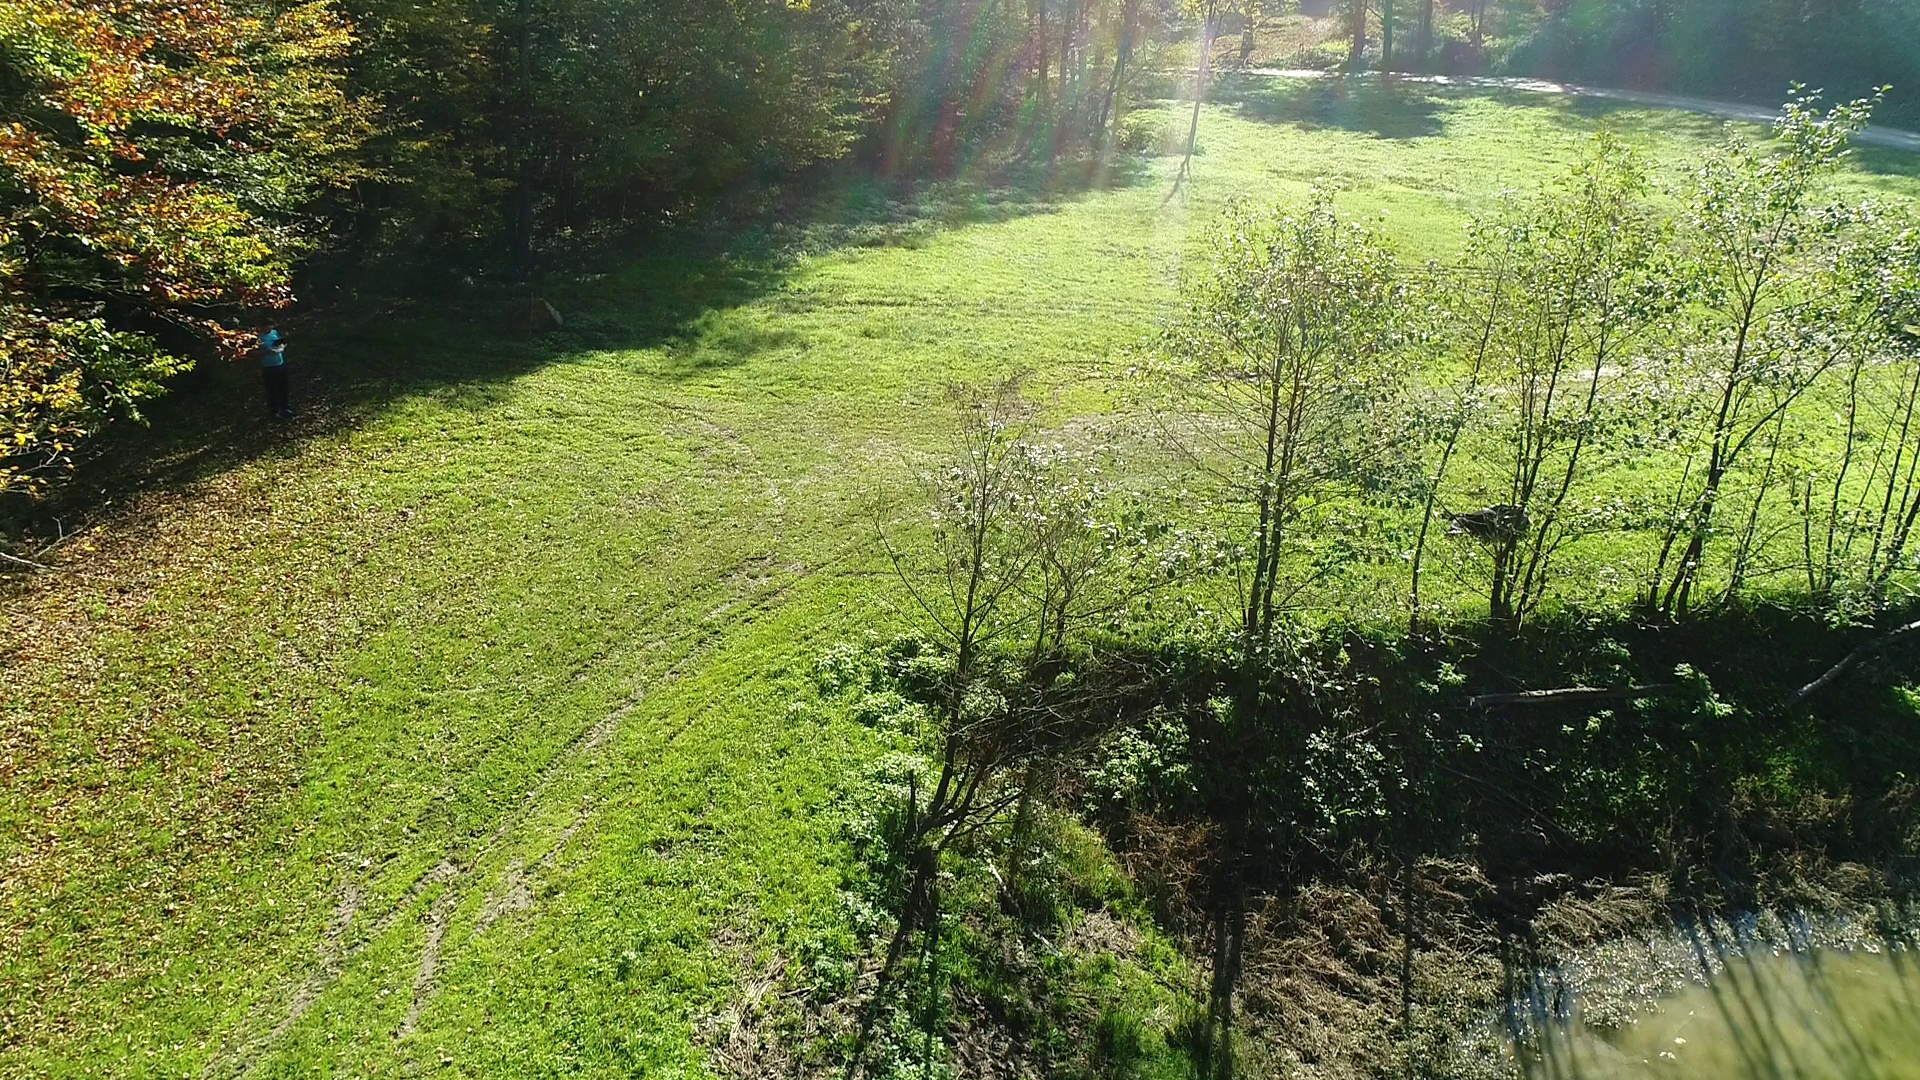person: (253, 318, 297, 420), (1440, 503, 1532, 542)
